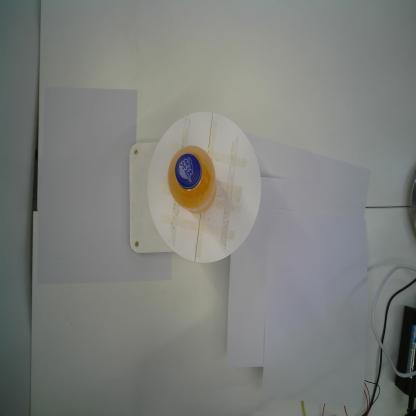Drink: (166, 143, 218, 217)
